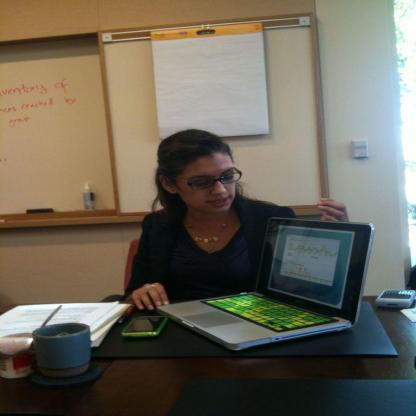board: (154, 218, 374, 350), (84, 180, 96, 210)
